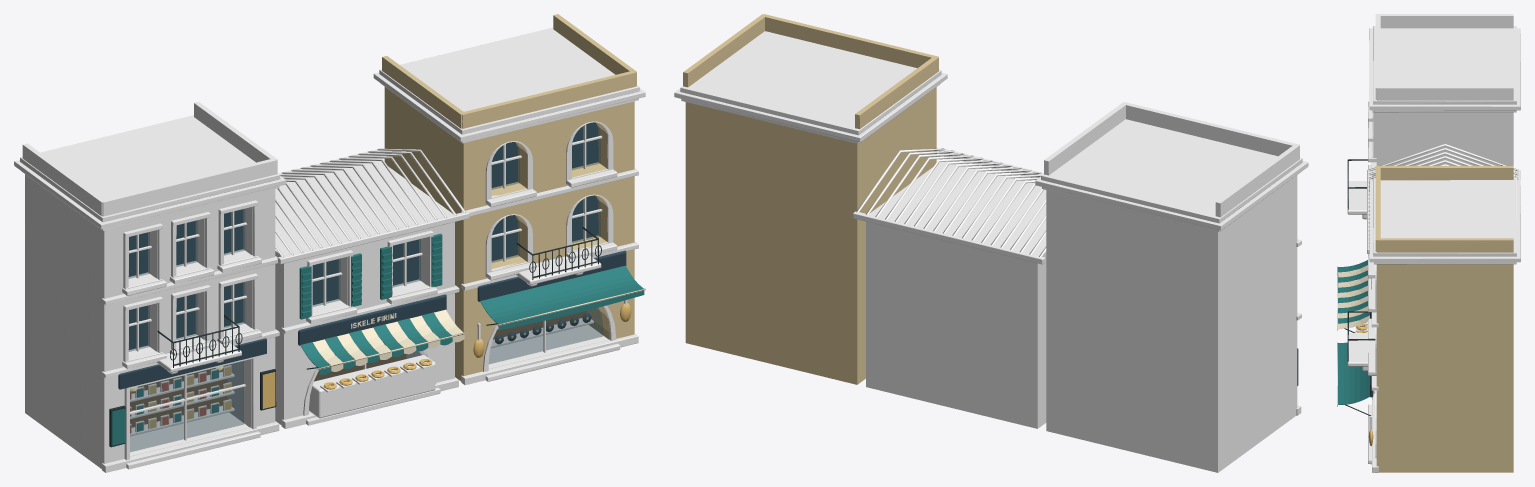
File: DistrictBlock_5_1_LOD1.glb
The picture shows the model from 3 angles, left to right: view 1: azimuth 30°, elevation 25°; view 2: azimuth 150°, elevation 25°; view 3: azimuth 270°, elevation 25°; orthographic projection. The views are drawn at different scales.
Parts seen in each view (by area): view 1: RK_DistrictBlock_5_1_LOD1_LC_Lime, RK_DistrictBlock_5_1_LOD1_LC_Ochre, RK_DistrictBlock_5_1_LOD1_LC_Glass, RK_DistrictBlock_5_1_LOD1_LC_Cream, RK_DistrictBlock_5_1_LOD1_LC_Wood, RK_DistrictBlock_5_1_LOD1_LC_Ink, RK_DistrictBlock_5_1_LOD1_LC_Teal, RK_DistrictBlock_5_1_LOD1_LC_Tile, RK_DistrictBlock_5_1_LOD1_LC_Canvas, RK_DistrictBlock_5_1_LOD1_LC_Iron, RK_DistrictBlock_5_1_LOD1_LC_Interior, RK_DistrictBlock_5_1_LOD1_LC_Gold; view 2: RK_DistrictBlock_5_1_LOD1_LC_Lime, RK_DistrictBlock_5_1_LOD1_LC_Ochre, RK_DistrictBlock_5_1_LOD1_LC_Cream, RK_DistrictBlock_5_1_LOD1_LC_Tile, RK_DistrictBlock_5_1_LOD1_LC_Wood; view 3: RK_DistrictBlock_5_1_LOD1_LC_Lime, RK_DistrictBlock_5_1_LOD1_LC_Ochre, RK_DistrictBlock_5_1_LOD1_LC_Teal, RK_DistrictBlock_5_1_LOD1_LC_Tile, RK_DistrictBlock_5_1_LOD1_LC_Canvas, RK_DistrictBlock_5_1_LOD1_LC_Iron, RK_DistrictBlock_5_1_LOD1_LC_Wood.
Part boxes in pixels (left/top/right/bottom): RK_DistrictBlock_5_1_LOD1_LC_Lime: left=14, top=27, right=645, bottom=472; RK_DistrictBlock_5_1_LOD1_LC_Ochre: left=382, top=14, right=636, bottom=381; RK_DistrictBlock_5_1_LOD1_LC_Glass: left=129, top=122, right=602, bottom=451; RK_DistrictBlock_5_1_LOD1_LC_Cream: left=275, top=158, right=454, bottom=424; RK_DistrictBlock_5_1_LOD1_LC_Wood: left=129, top=124, right=627, bottom=456; RK_DistrictBlock_5_1_LOD1_LC_Ink: left=118, top=122, right=626, bottom=389; RK_DistrictBlock_5_1_LOD1_LC_Teal: left=112, top=233, right=644, bottom=445; RK_DistrictBlock_5_1_LOD1_LC_Tile: left=275, top=148, right=466, bottom=257; RK_DistrictBlock_5_1_LOD1_LC_Canvas: left=313, top=288, right=645, bottom=371; RK_DistrictBlock_5_1_LOD1_LC_Iron: left=109, top=227, right=601, bottom=447; RK_DistrictBlock_5_1_LOD1_LC_Interior: left=130, top=311, right=586, bottom=427; RK_DistrictBlock_5_1_LOD1_LC_Gold: left=149, top=303, right=631, bottom=428; RK_DistrictBlock_5_1_LOD1_LC_Lime: left=674, top=31, right=1308, bottom=472; RK_DistrictBlock_5_1_LOD1_LC_Ochre: left=683, top=14, right=938, bottom=384; RK_DistrictBlock_5_1_LOD1_LC_Cream: left=866, top=159, right=1046, bottom=428; RK_DistrictBlock_5_1_LOD1_LC_Tile: left=856, top=148, right=1046, bottom=257; RK_DistrictBlock_5_1_LOD1_LC_Wood: left=853, top=149, right=1045, bottom=264; RK_DistrictBlock_5_1_LOD1_LC_Lime: left=1347, top=14, right=1520, bottom=472; RK_DistrictBlock_5_1_LOD1_LC_Ochre: left=1375, top=166, right=1513, bottom=472; RK_DistrictBlock_5_1_LOD1_LC_Teal: left=1337, top=260, right=1371, bottom=406; RK_DistrictBlock_5_1_LOD1_LC_Tile: left=1368, top=144, right=1518, bottom=248; RK_DistrictBlock_5_1_LOD1_LC_Canvas: left=1337, top=265, right=1369, bottom=405; RK_DistrictBlock_5_1_LOD1_LC_Iron: left=1344, top=159, right=1375, bottom=415; RK_DistrictBlock_5_1_LOD1_LC_Wood: left=1367, top=170, right=1520, bottom=431.
Bounding box in the file's own units: 19.09 × 9.02 × 6.44.
